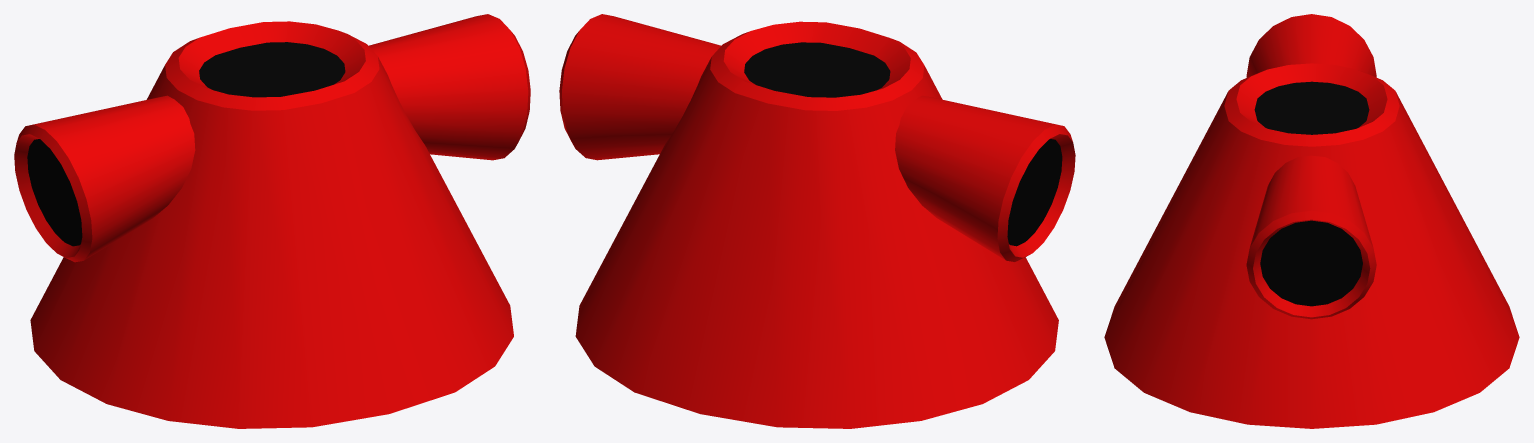
File: Tshirt_2_export.fbx
The picture shows the model from 3 angles, left to right: view 1: azimuth 30°, elevation 25°; view 2: azimuth 150°, elevation 25°; view 3: azimuth 270°, elevation 25°; orthographic projection. The views are drawn at different scales.
Visible parts, largest first — view 1: pCylinder3; view 2: pCylinder3; view 3: pCylinder3.
Part boxes in pixels (<box>): pCylinder3: <box>14,14,530,428</box>; pCylinder3: <box>559,14,1075,428</box>; pCylinder3: <box>1104,14,1519,428</box>.
Bounding box in the file's own units: 4.94 × 2.73 × 4.3.
